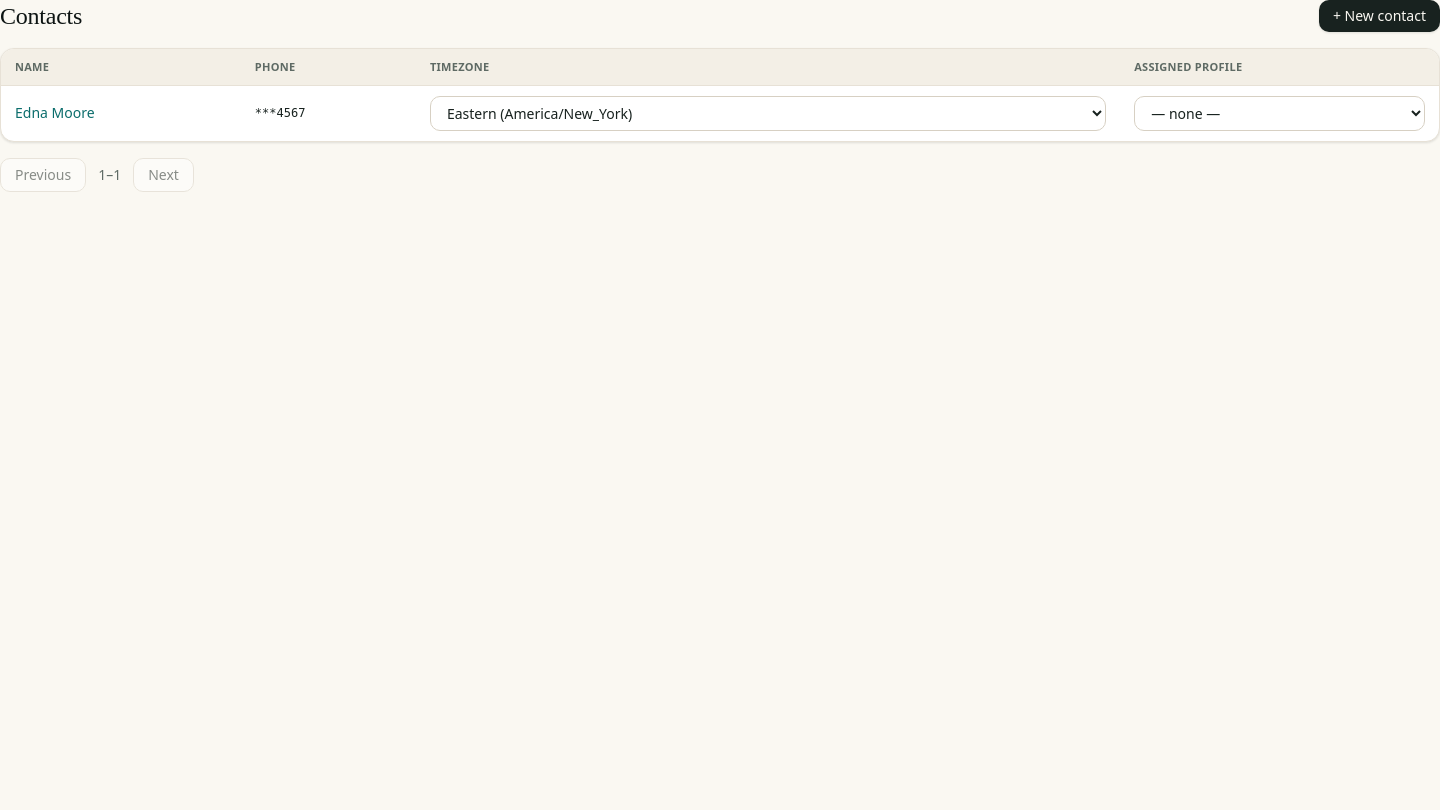
it: ContactsPage timezone editor › shows the New contact button for admins and opens the create dialog
The image size is (1440, 810).
Click the button "+ New contact" at (1379, 16), box [1319, 0, 1439, 32]
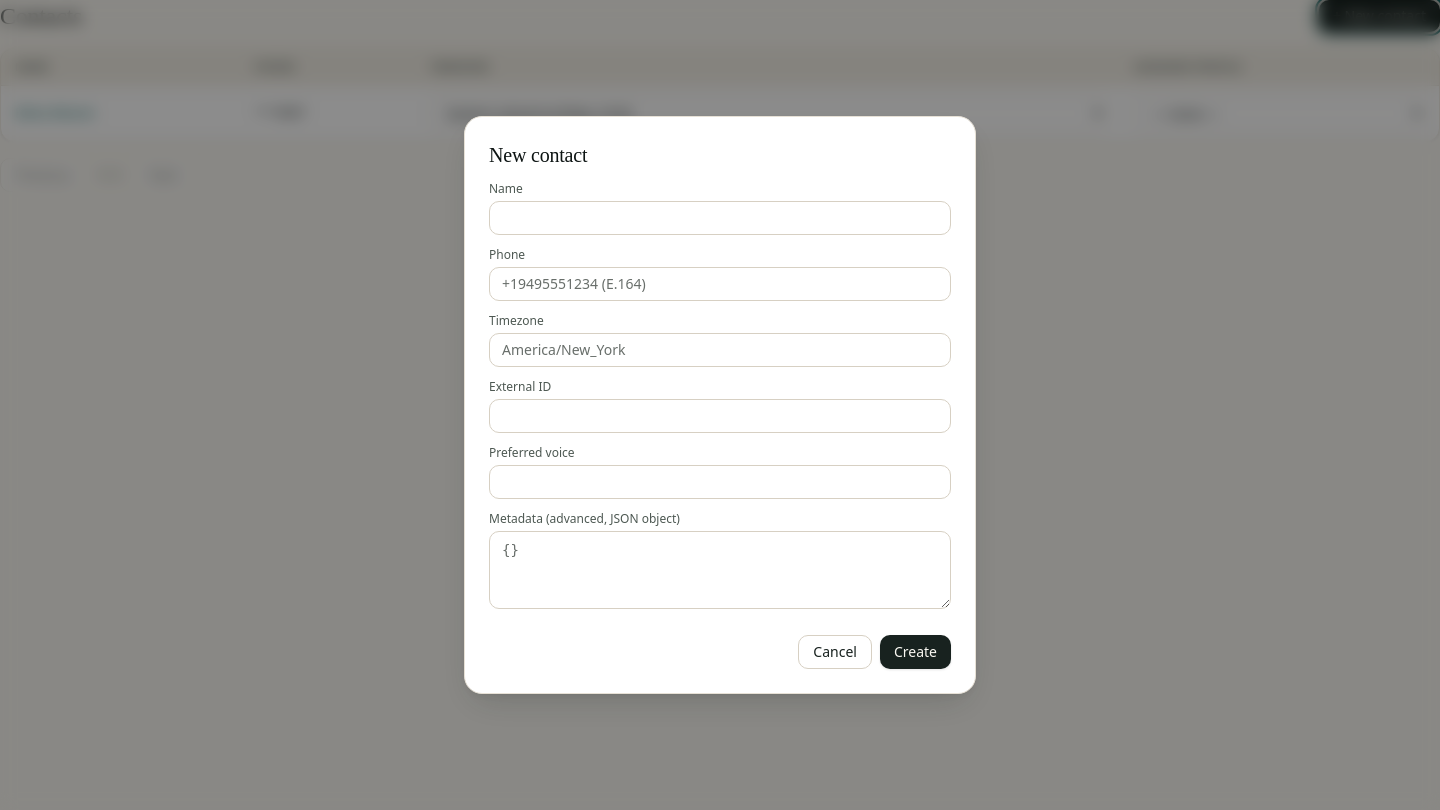
Now the dialog is shown, box [464, 116, 976, 694]
Now the button "Create" is shown, box [880, 635, 951, 669]
